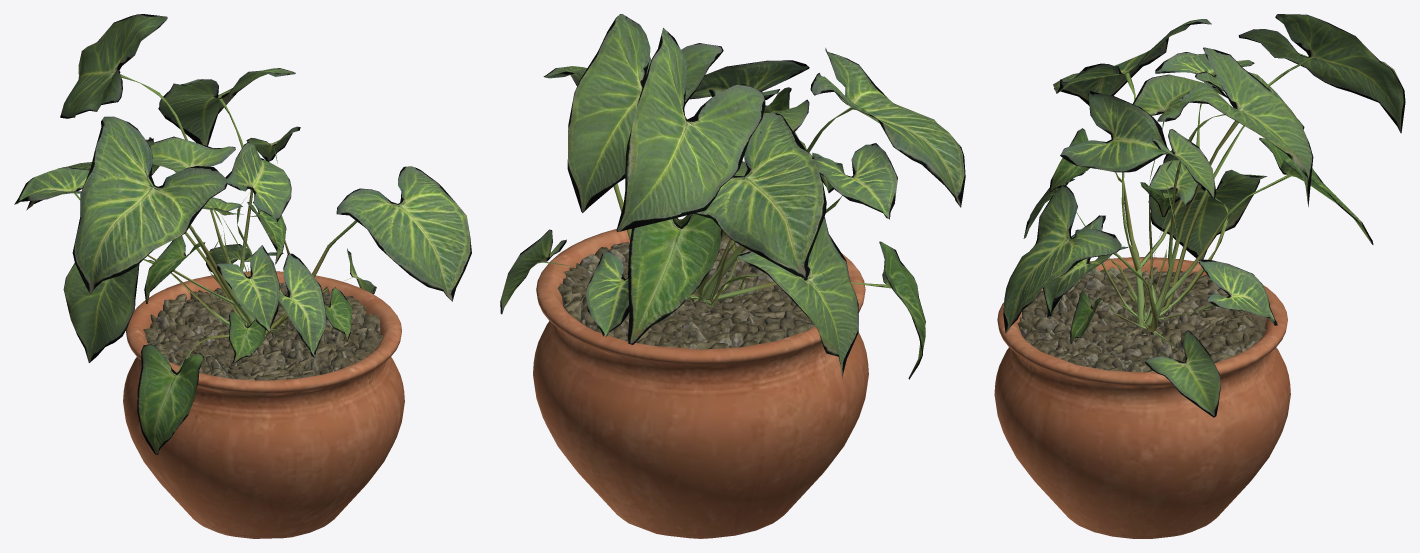
File: potted-plant-02.glb
3 renders of one model, left to right at view 1: azimuth 30°, elevation 25°; view 2: azimuth 150°, elevation 25°; view 3: azimuth 270°, elevation 25°, orthographic. The views are drawn at different scales.
Parts seen in each view (by area): view 1: potted_plant_02_leaves, potted_plant_02_pot, potted_plant_02_dirt; view 2: potted_plant_02_leaves, potted_plant_02_pot, potted_plant_02_dirt; view 3: potted_plant_02_leaves, potted_plant_02_pot, potted_plant_02_dirt.
Part boxes in pixels (bbox=[...]): potted_plant_02_leaves: bbox=[14, 14, 471, 454]; potted_plant_02_pot: bbox=[123, 271, 404, 538]; potted_plant_02_dirt: bbox=[143, 282, 383, 380]; potted_plant_02_leaves: bbox=[500, 14, 965, 379]; potted_plant_02_pot: bbox=[533, 219, 868, 538]; potted_plant_02_dirt: bbox=[558, 233, 814, 349]; potted_plant_02_leaves: bbox=[1003, 14, 1405, 417]; potted_plant_02_pot: bbox=[994, 257, 1290, 538]; potted_plant_02_dirt: bbox=[1017, 267, 1266, 372].
Bounding box in the file's own units: 0.7012 × 0.8401 × 0.6574.
2 materials, 2 textured.
